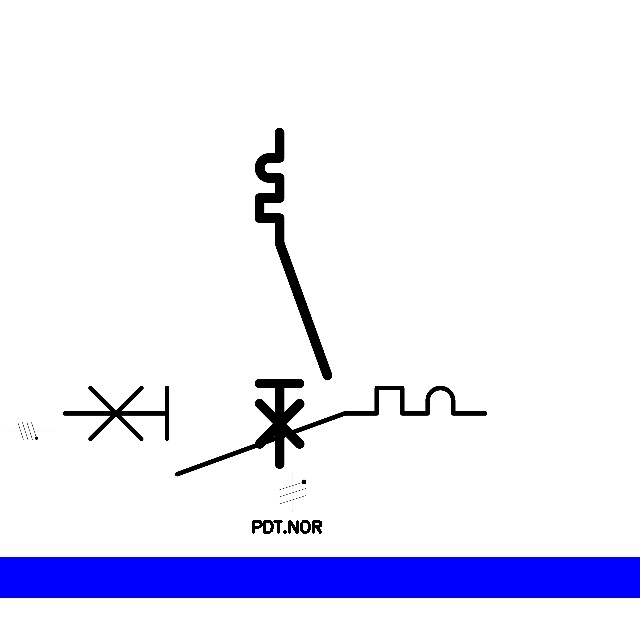interruptor_termomagnetico: (54, 377, 496, 485), (251, 124, 336, 473)
